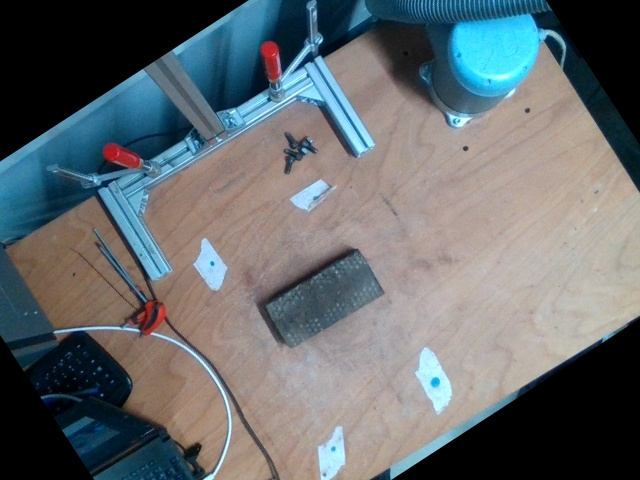brick: (263, 252, 383, 350)
